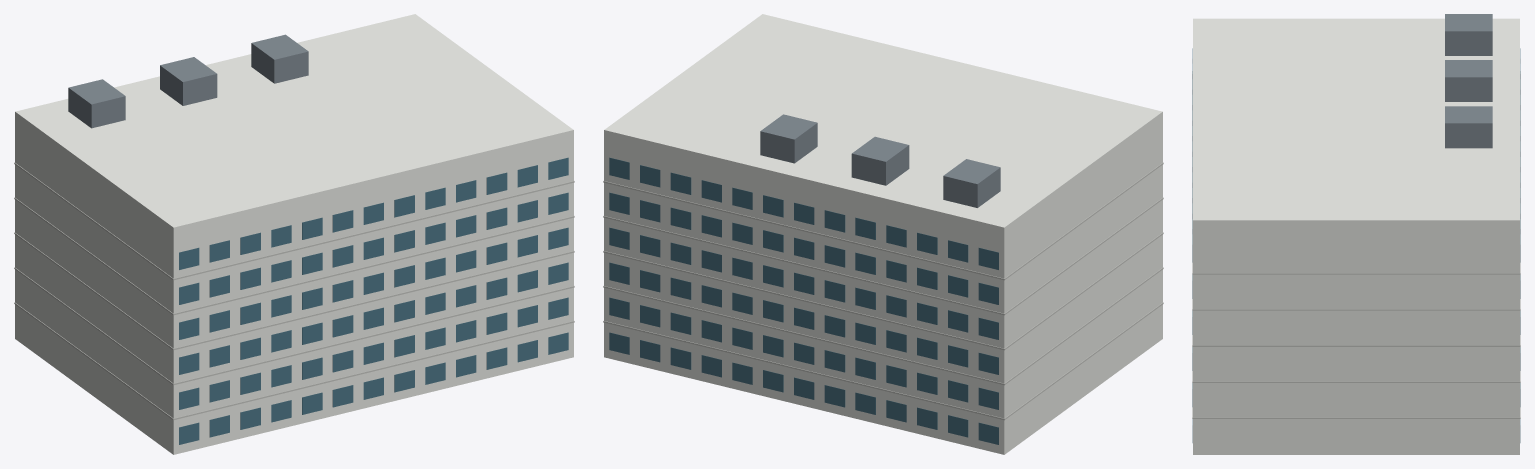
3 renders of one model, left to right at view 1: azimuth 30°, elevation 25°; view 2: azimuth 150°, elevation 25°; view 3: azimuth 270°, elevation 25°, orthographic. The views are drawn at different scales.
Parts seen in each view (by area): view 1: worldgen; view 2: worldgen; view 3: worldgen.
Part boxes in pixels (x1,y1,x2,y2): worldgen: (14, 14, 574, 454); worldgen: (603, 14, 1163, 454); worldgen: (1192, 14, 1520, 454).
Bounding box in the file's own units: 70.2 × 42 × 48.2.
